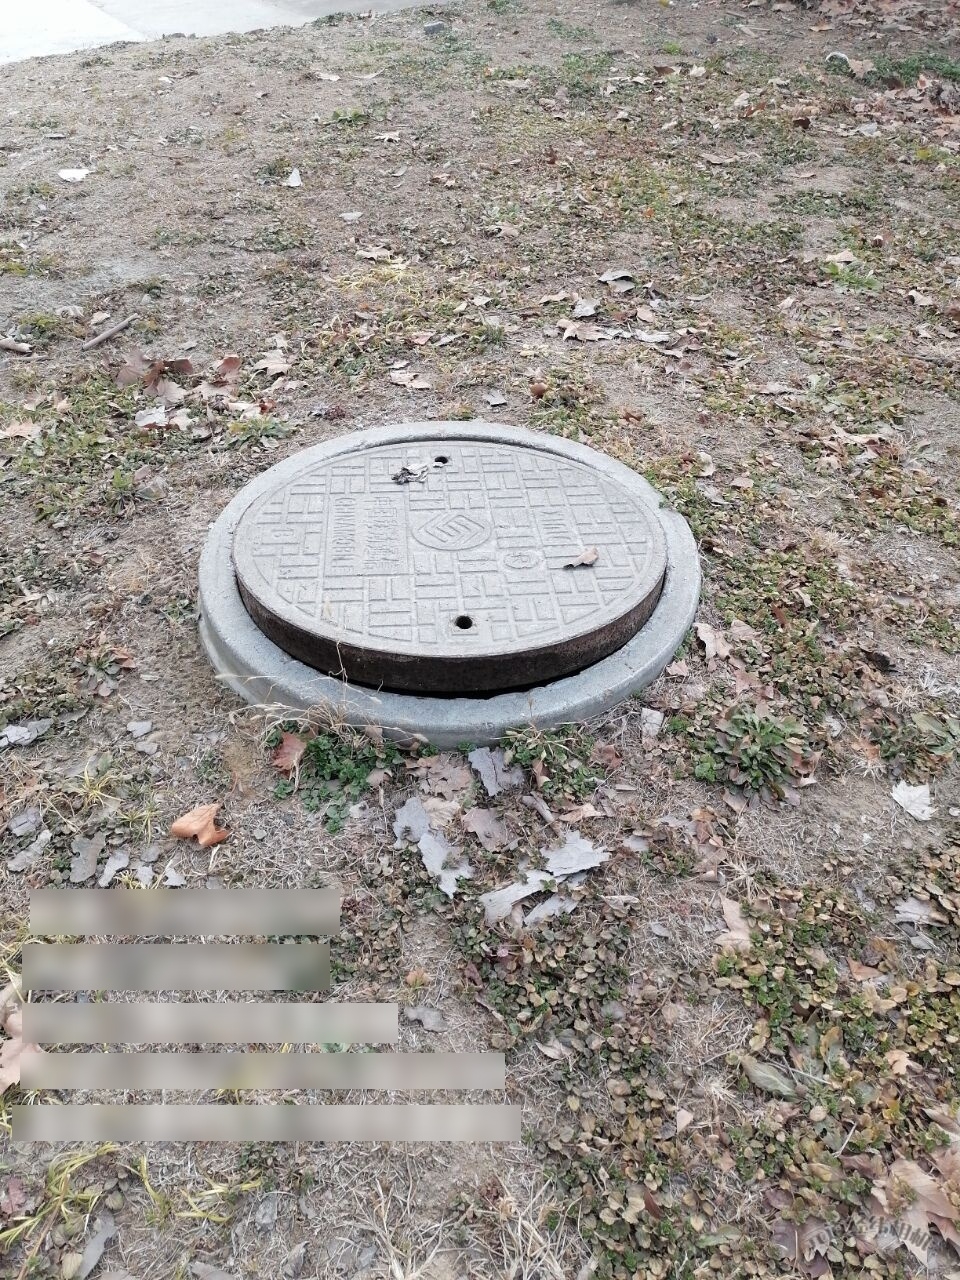uncovered: (200, 421, 698, 754)
